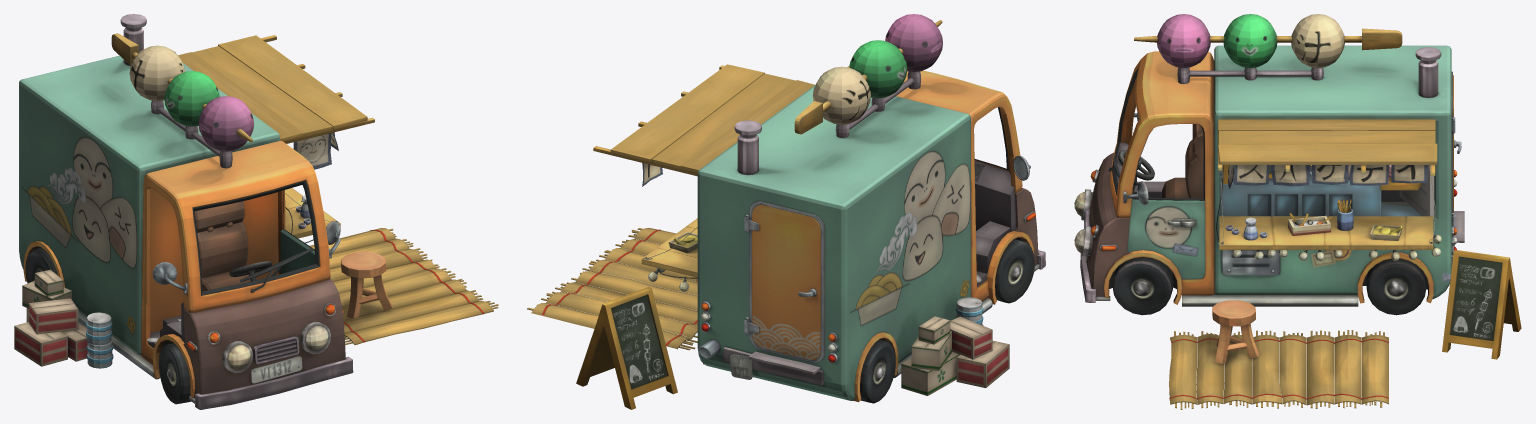
File: foodtruck.obj
3 views of the same model, side by side, from view 1: azimuth 30°, elevation 25°; view 2: azimuth 150°, elevation 25°; view 3: azimuth 270°, elevation 25° (orthographic). The views are drawn at different scales.
Visible parts, largest first — view 1: Object002; view 2: Object002; view 3: Object002.
Boxes of the visible parts, left/top/right/bottom form: Object002: left=14, top=14, right=498, bottom=409; Object002: left=527, top=14, right=1045, bottom=409; Object002: left=1074, top=14, right=1521, bottom=409.
Bounding box in the file's own units: 4.68 × 2.97 × 4.53.
